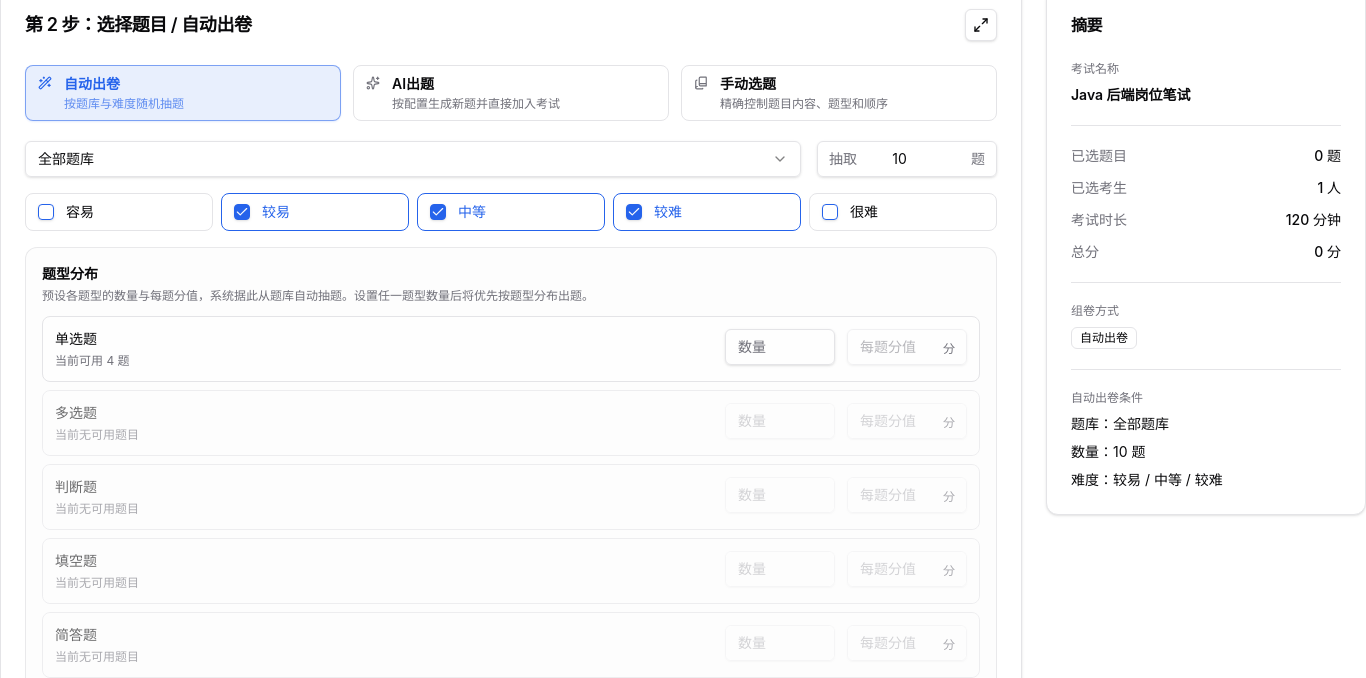
Test: ExamWizardForm › keeps knowledge quotas within the selected type plan
The image size is (1366, 678).
(page scrolled)
Type "3" into the number field named "单选题数量" at {"x": 780, "y": 346}, box [725,328,835,364]
(page scrolled)
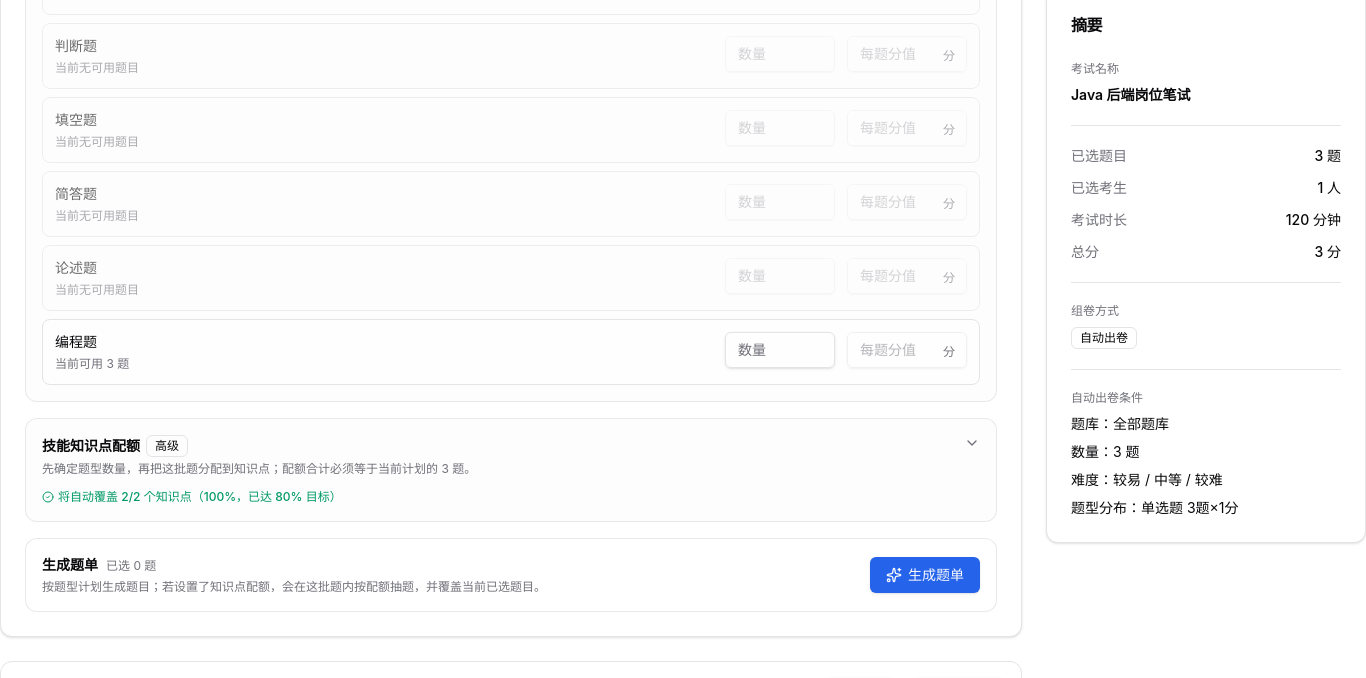
Type "2" into the number field named "编程题数量" at {"x": 780, "y": 350}, box [725,332,835,368]
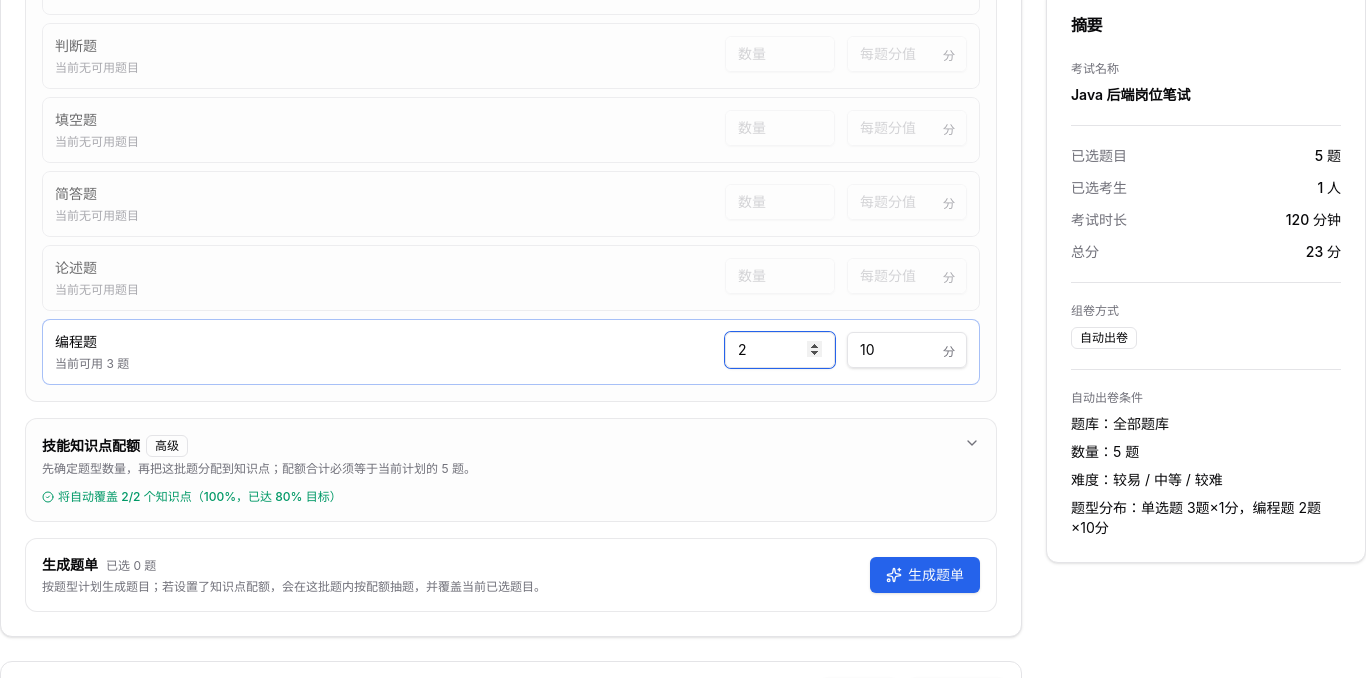
Click the button "技能知识点配额 高级 先确定题型数量，再把这批题分配到知识点；配额合计必须等于当前计划的 5 题。" at {"x": 91, "y": 445}, box [42,434,980,476]
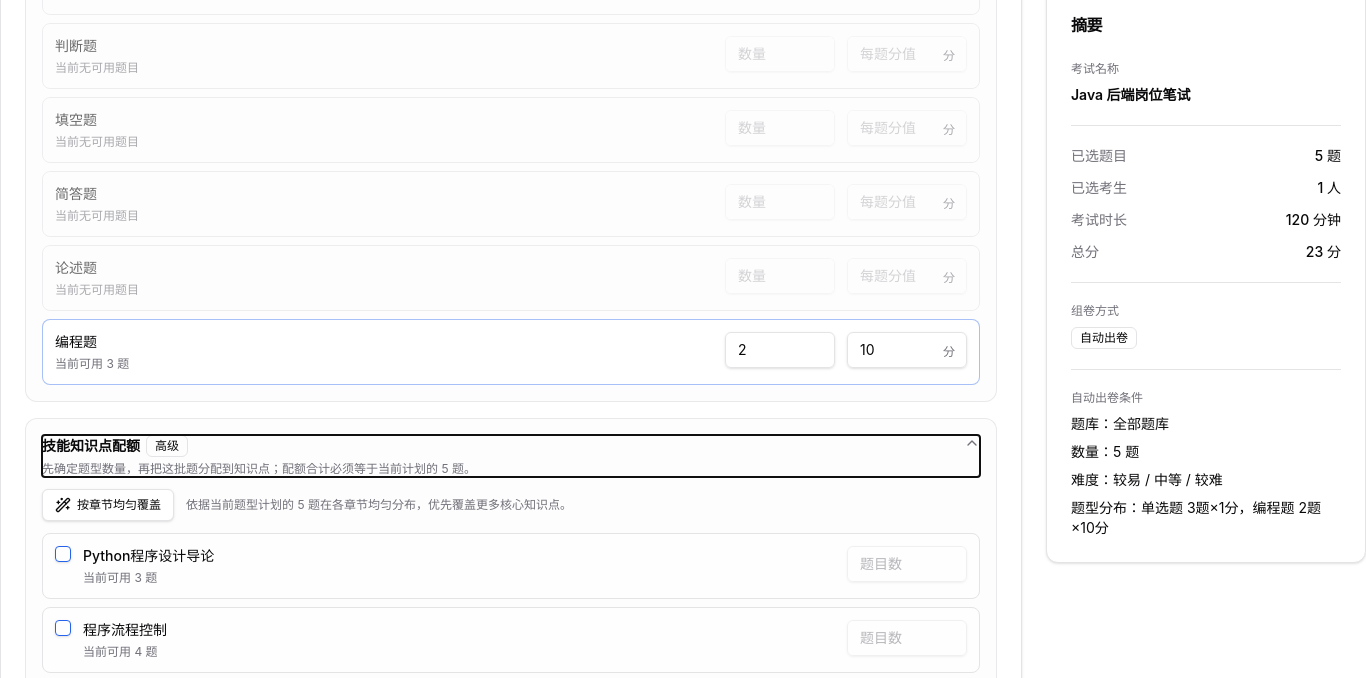
Click the button "按章节均匀覆盖" at {"x": 108, "y": 504}, box [42,488,174,520]
(page scrolled)
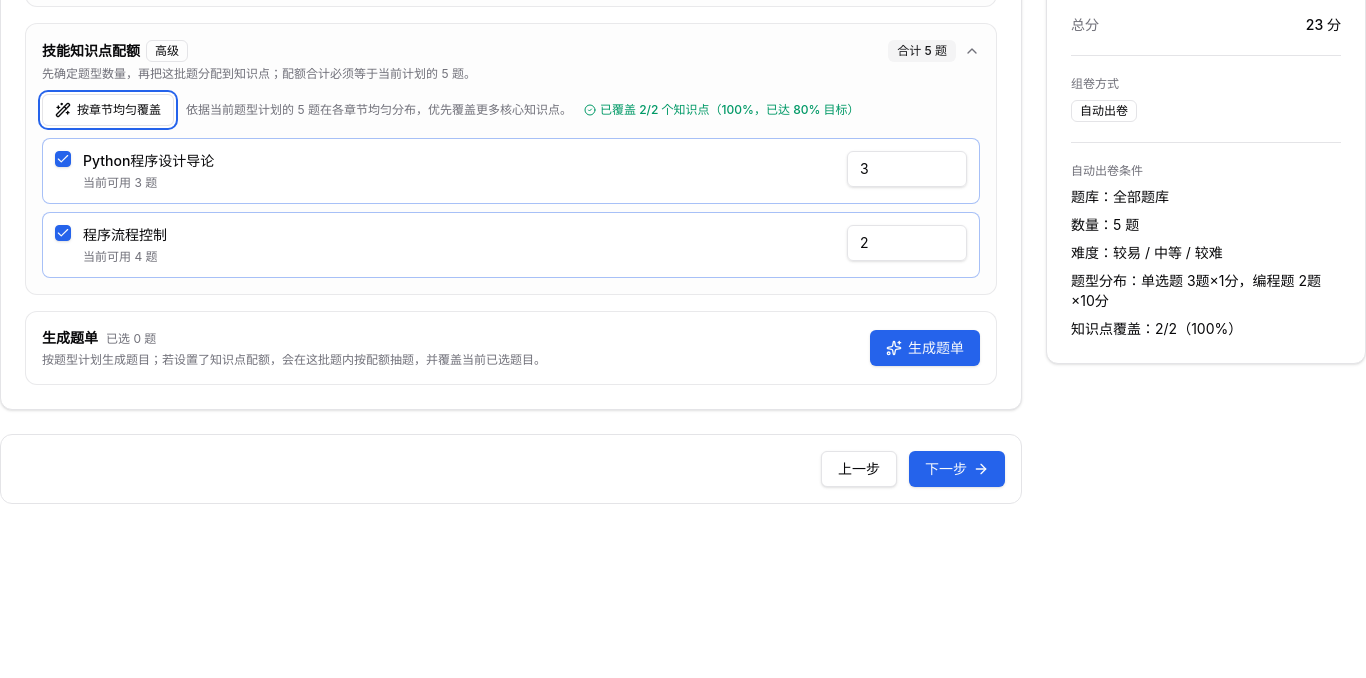
Click the button "生成题单" at {"x": 925, "y": 348}, box [870,330,980,366]
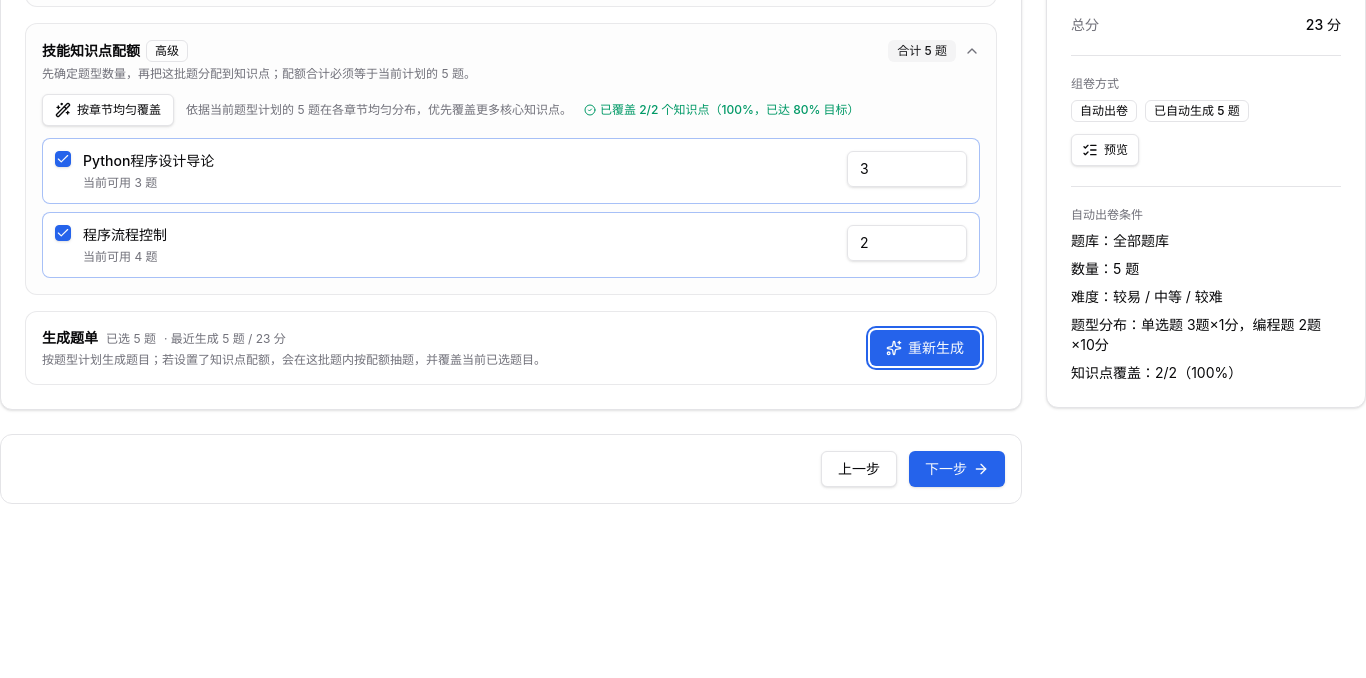
Result: the text "· 最近生成 5 题 / 23 分" is shown at [164,330,286,346]
